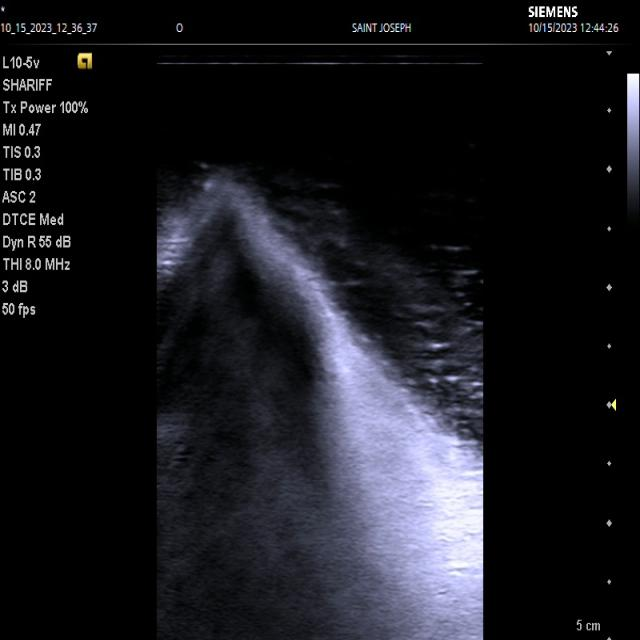tissue: (158, 185, 483, 640)
